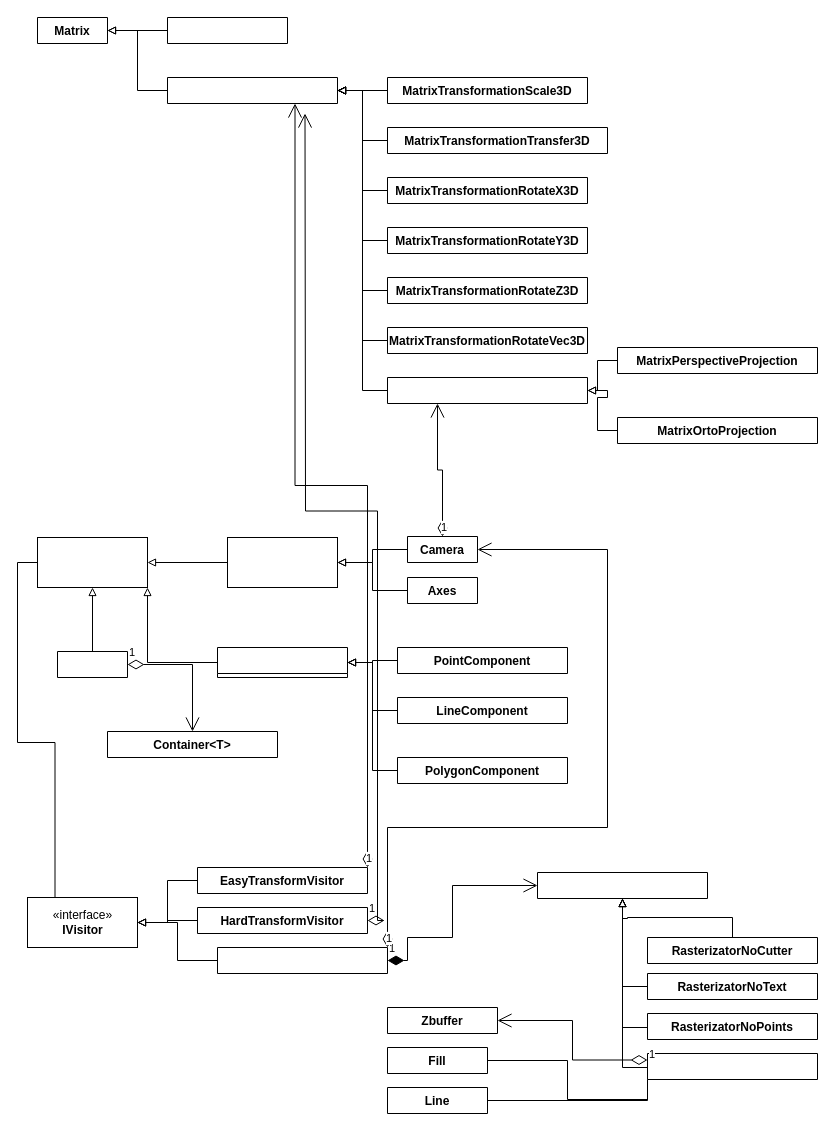
The diagram is 835 pixels wide and 1131 high, and some of its shapes have lost their labels. The shapes that lost their labels are listed below. From the top down, each one's centre as x and y in pixels, then its label:
At (x=227, y=30): "MatrixCoord3D".
At (x=252, y=90): "MatrixTransformation3D".
At (x=487, y=390): "MatrixProjection".
At (x=92, y=562): "«interface» IObjects".
At (x=282, y=562): "«interface» IBaseObjects".
At (x=92, y=664): "Model".
At (x=282, y=662): "ModelComponents".
At (x=622, y=885): "Rasterizator".
At (x=302, y=960): "DrawVisitor".
At (x=732, y=1066): "RasterizatorCutter".
